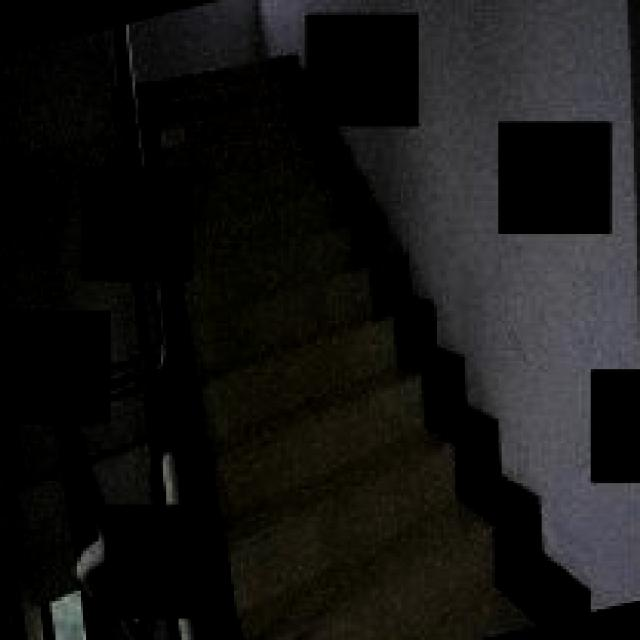upstair: (161, 312, 524, 506)
